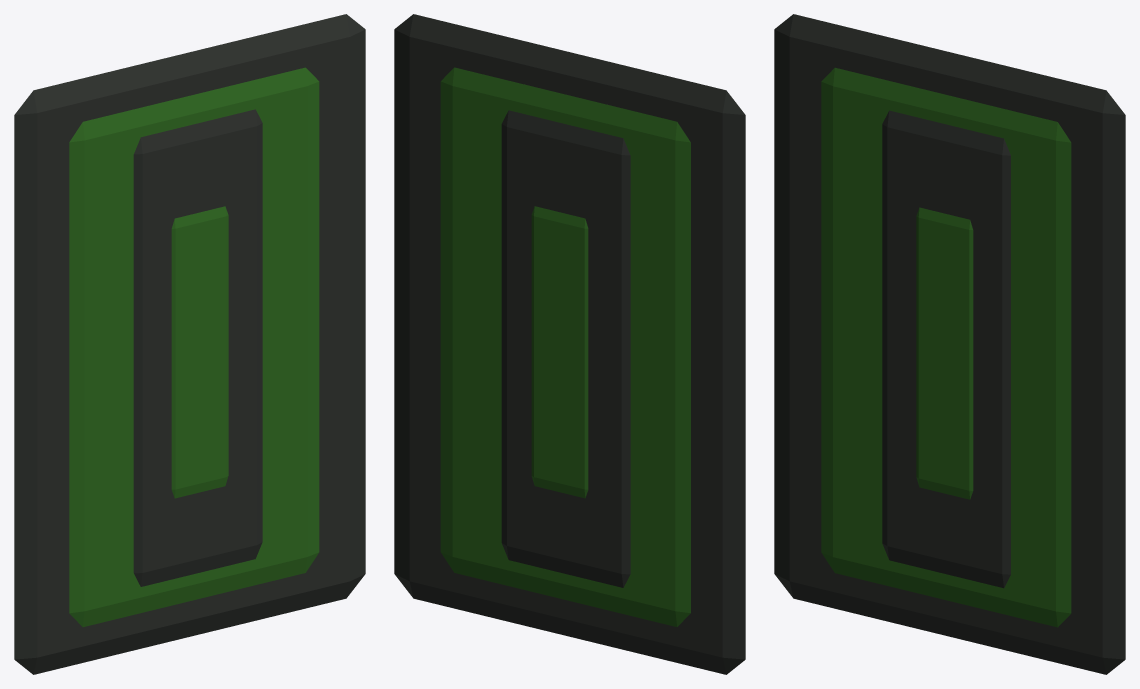
Rendered from KeycardV1.fbx.
The picture shows the model from 3 angles, left to right: view 1: azimuth 30°, elevation 25°; view 2: azimuth 150°, elevation 25°; view 3: azimuth 330°, elevation 25°; orthographic projection.
Visible parts, largest first — view 1: Keycard; view 2: Keycard; view 3: Keycard.
Boxes of the visible parts, x1=… form: Keycard: x1=14, y1=14, x2=365, y2=674; Keycard: x1=394, y1=14, x2=745, y2=674; Keycard: x1=774, y1=14, x2=1125, y2=674.
Size of the model in its own units: 11.97 by 19.04 by 0.9856.
